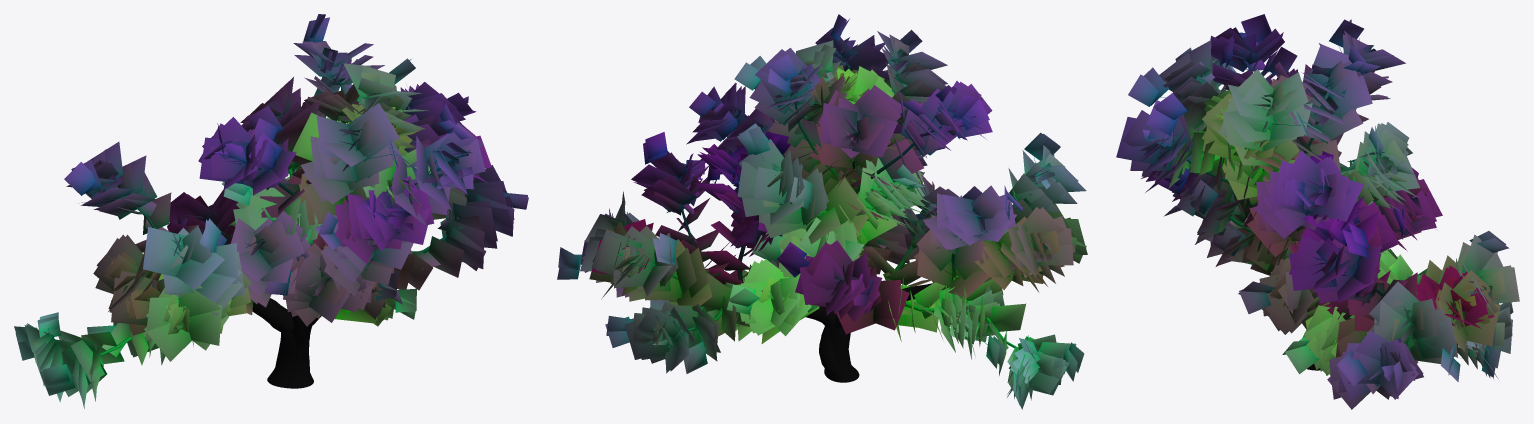
The model's file is Arbol6.fbx.
The picture shows the model from 3 angles, left to right: view 1: azimuth 30°, elevation 25°; view 2: azimuth 150°, elevation 25°; view 3: azimuth 270°, elevation 25°; orthographic projection. The views are drawn at different scales.
Parts seen in each view (by area): view 1: Tree_1, Tree_0; view 2: Tree_1, Tree_0; view 3: Tree_1, Tree_0.
Boxes of the visible parts, left/top/right/bottom form: Tree_1: left=14, top=14, right=528, bottom=408; Tree_0: left=48, top=38, right=469, bottom=388; Tree_1: left=557, top=14, right=1087, bottom=409; Tree_0: left=574, top=34, right=1063, bottom=382; Tree_1: left=1116, top=14, right=1519, bottom=409; Tree_0: left=1147, top=47, right=1483, bottom=370.
Size of the model in its own units: 145 by 94.45 by 102.
